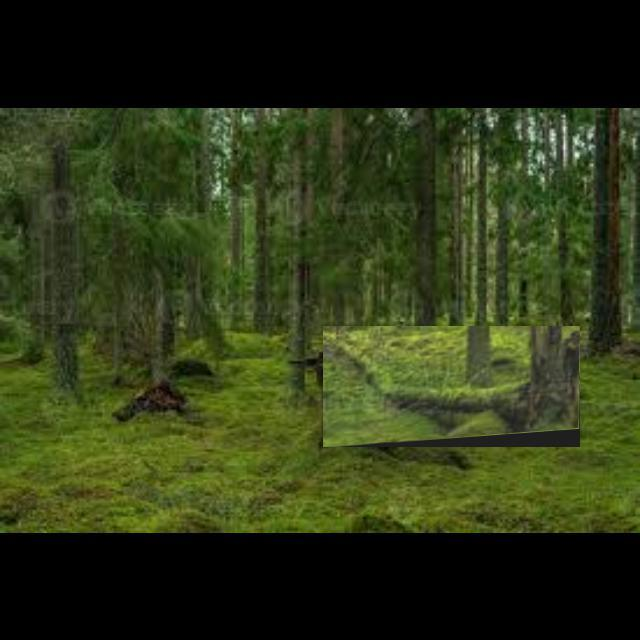fallen_tree: (323, 326, 581, 448)
